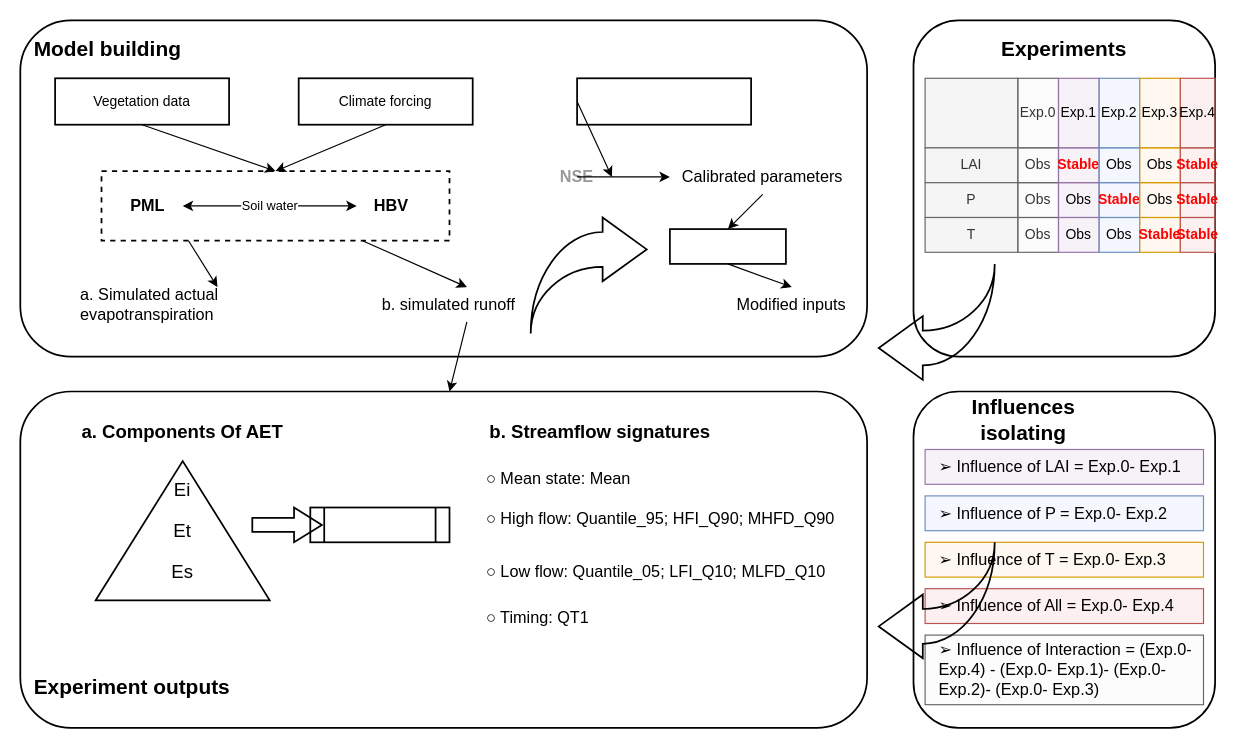
Some shapes in this 1239 by 749 pixel diagram are drawn without their labels. The shapes that lost their labels are listed below. From the top down, each one's centre as x and y in pixels, then its label:
pixel 663 101: Observed runoff
pixel 971 112: Input variables
pixel 727 246: HBV-PML
pixel 379 524: ± Soil water
